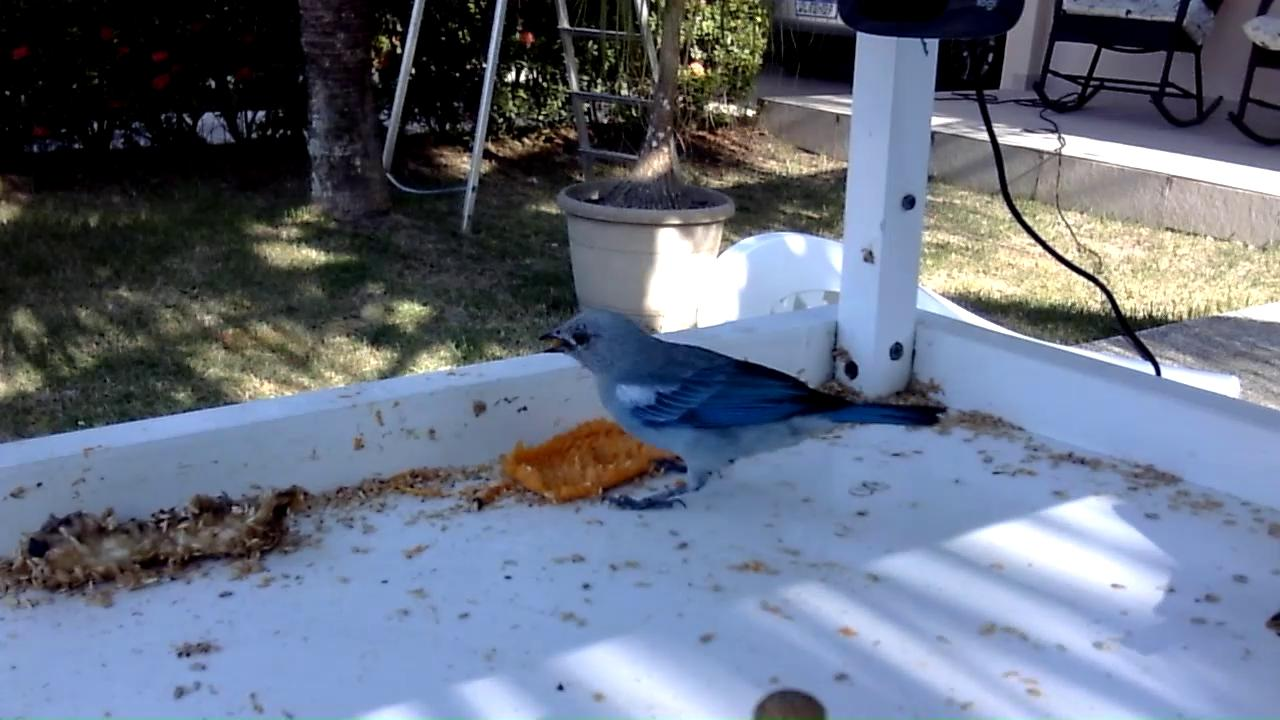sanhaco_da_amazonia: (537, 309, 947, 513)
